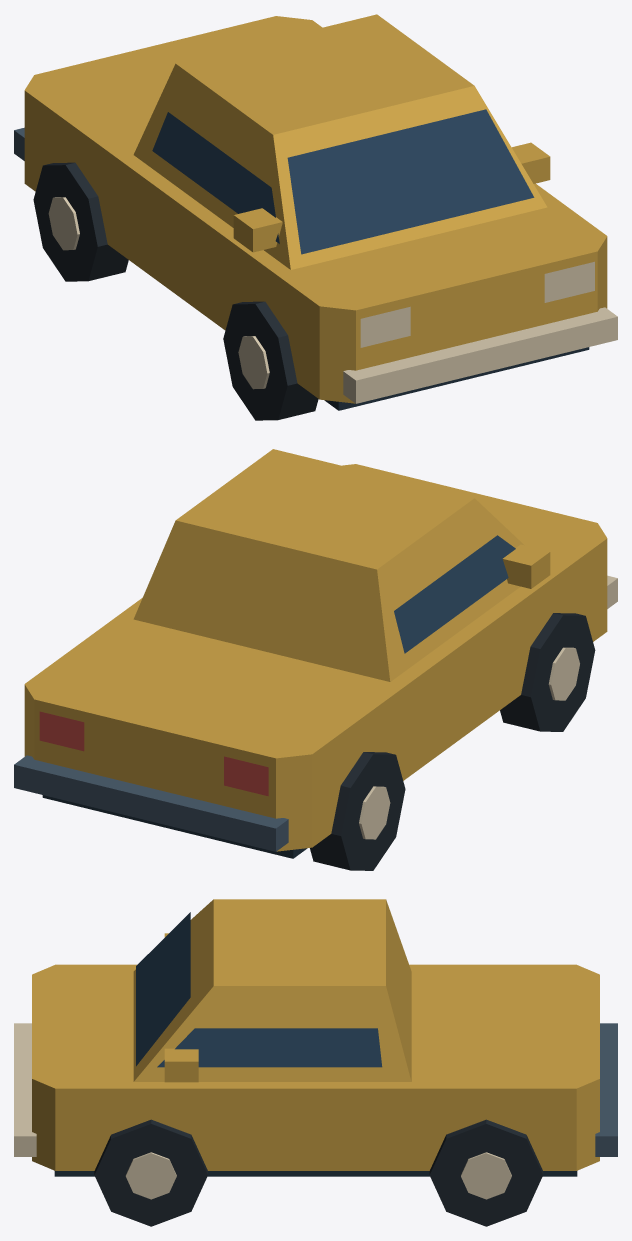
File: car-compact.glb
The picture shows the model from 3 angles, top to bottom: view 1: azimuth 30°, elevation 25°; view 2: azimuth 150°, elevation 25°; view 3: azimuth 270°, elevation 25°; orthographic projection. The views are drawn at different scales.
Parts seen in each view (by area): view 1: asset_root; view 2: asset_root; view 3: asset_root.
Part boxes in pixels (<box>): asset_root: <box>14,14,617,420</box>; asset_root: <box>14,449,617,870</box>; asset_root: <box>14,899,617,1226</box>.
Size of the model in its own units: 1.68 by 1.27 by 3.19.
